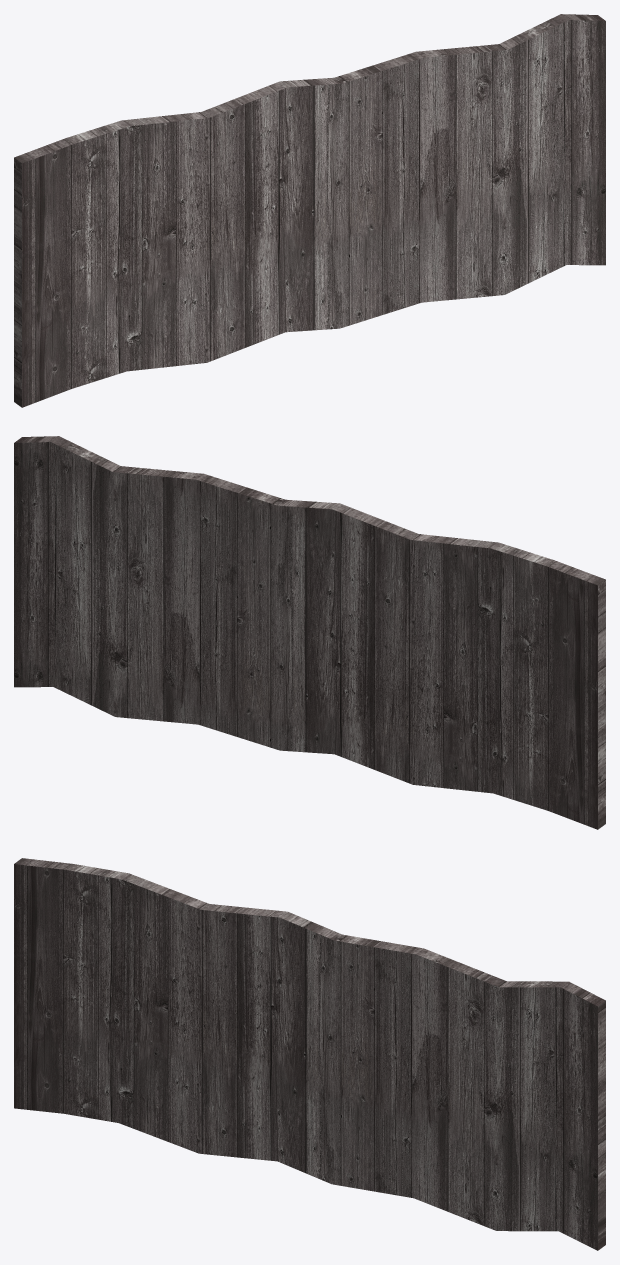
File: ObsFenceR01.FBX
3 renders of one model, top to bottom at view 1: azimuth 30°, elevation 25°; view 2: azimuth 150°, elevation 25°; view 3: azimuth 330°, elevation 25°, orthographic.
Parts seen in each view (by area): view 1: FenceR01; view 2: FenceR01; view 3: FenceR01.
Boxes of the visible parts, x1,y1,x2,y2 form: FenceR01: (14, 14, 605, 407); FenceR01: (14, 436, 605, 829); FenceR01: (14, 858, 605, 1250).
Bounding box in the file's own units: 5 × 2.13 × 0.12.
